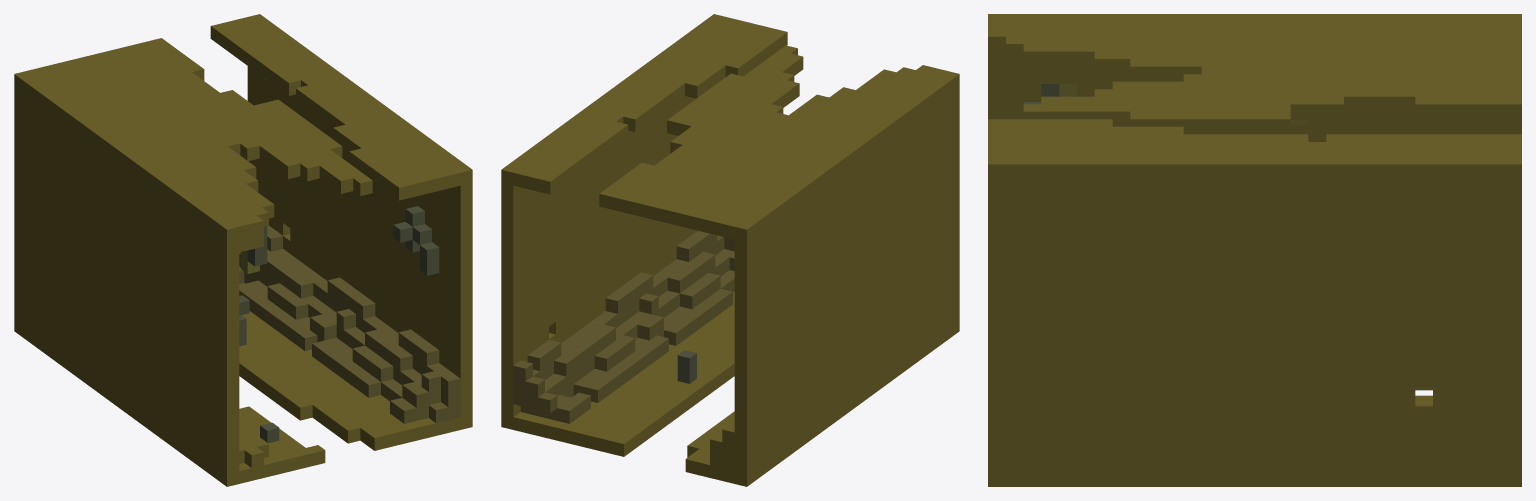
File: cave.obj
The picture shows the model from 3 angles, left to right: view 1: azimuth 30°, elevation 25°; view 2: azimuth 150°, elevation 25°; view 3: azimuth 270°, elevation 25°; orthographic projection. The views are drawn at different scales.
Bounding box in the file's own units: 20 × 20 × 30.
